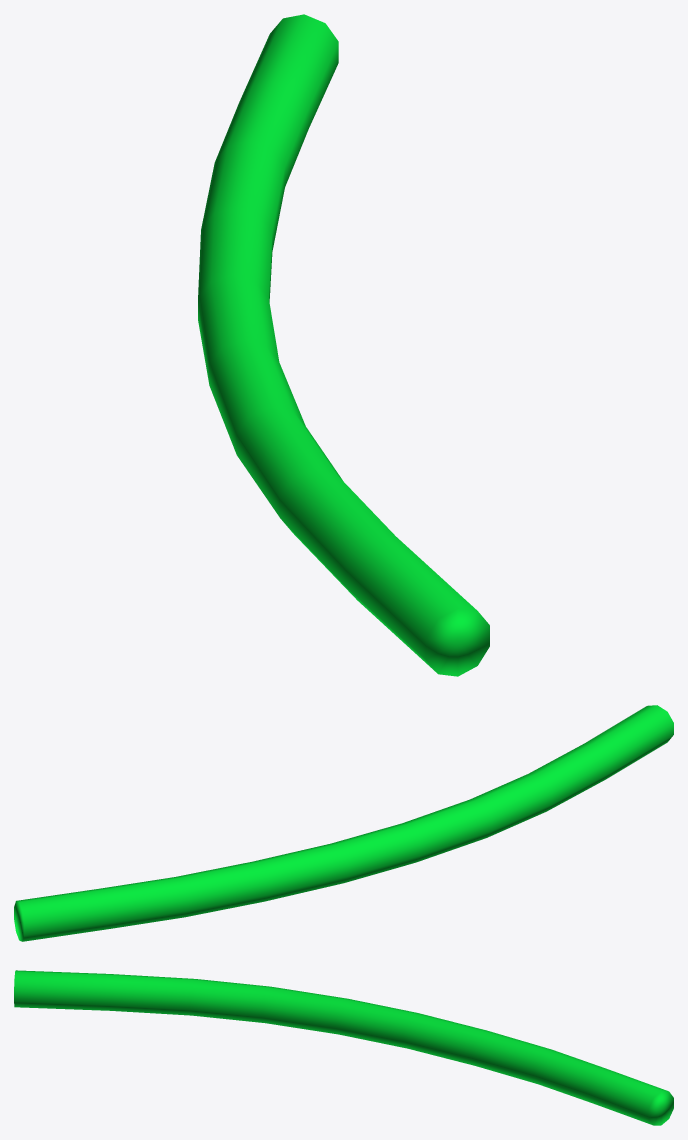
File: Pipe_Turn_45_A_Ext.fbx
3 renders of one model, top to bottom at view 1: azimuth 30°, elevation 25°; view 2: azimuth 150°, elevation 25°; view 3: azimuth 270°, elevation 25°, orthographic. The views are drawn at different scales.
Parts seen in each view (by area): view 1: Pipe_Turn_45_A_Ext; view 2: Pipe_Turn_45_A_Ext; view 3: Pipe_Turn_45_A_Ext.
Boxes of the visible parts, x1,y1,x2,y2 form: Pipe_Turn_45_A_Ext: (198, 14, 489, 676); Pipe_Turn_45_A_Ext: (14, 705, 673, 941); Pipe_Turn_45_A_Ext: (14, 970, 673, 1125).
Size of the model in its own units: 1.88 by 0.2278 by 3.94.
